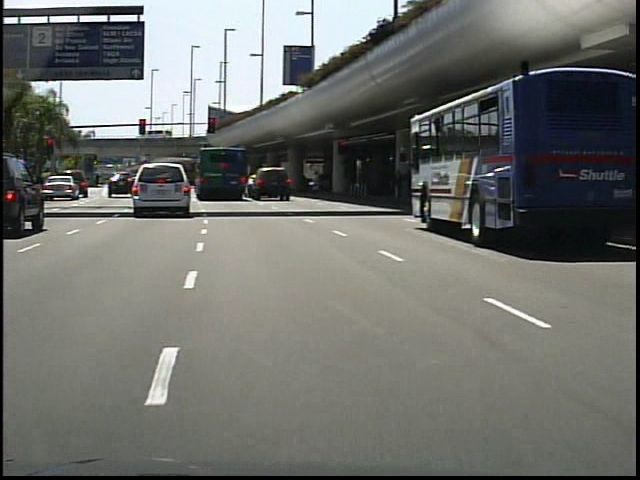person: (312, 163, 332, 200)
